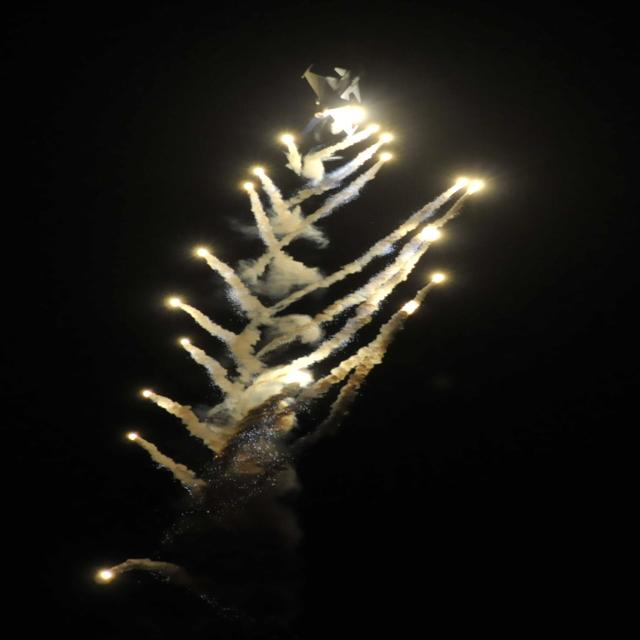MIL_Plane: (301, 64, 371, 139)
